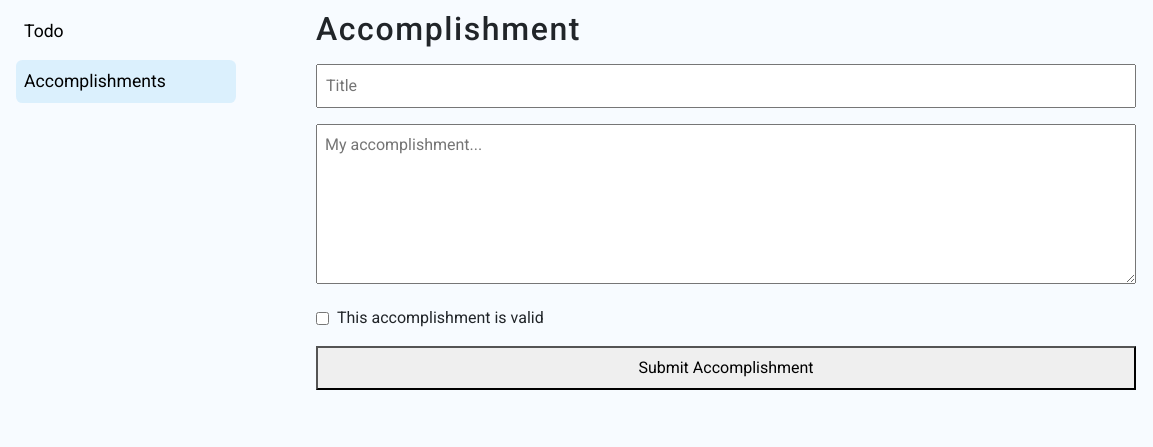
Test: Accomplishment dashboard › should display error if info is missing
Type "This is my accomplishment" into the field with placeholder "Title" at (726, 86), box left=316, top=64, right=1136, bottom=108
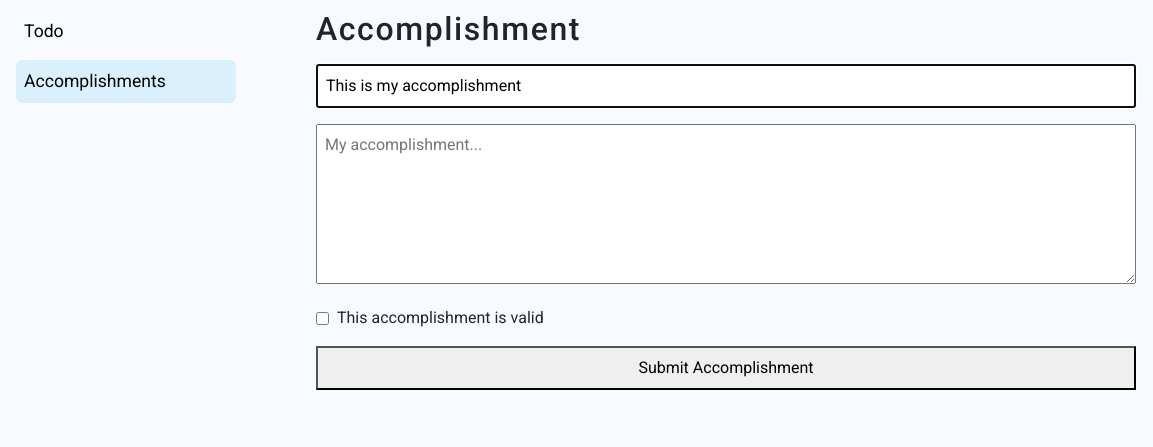
Type "I use Vim! 💪" into the text box with placeholder "My accomplishment..." at (726, 204), box left=316, top=124, right=1136, bottom=284
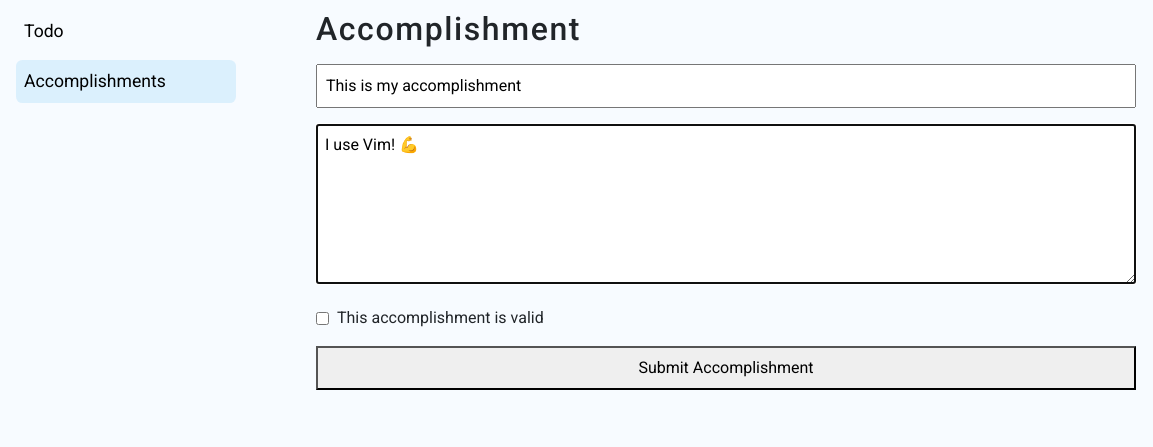
Click the button "Submit Accomplishment" at (726, 368), box left=316, top=346, right=1136, bottom=390
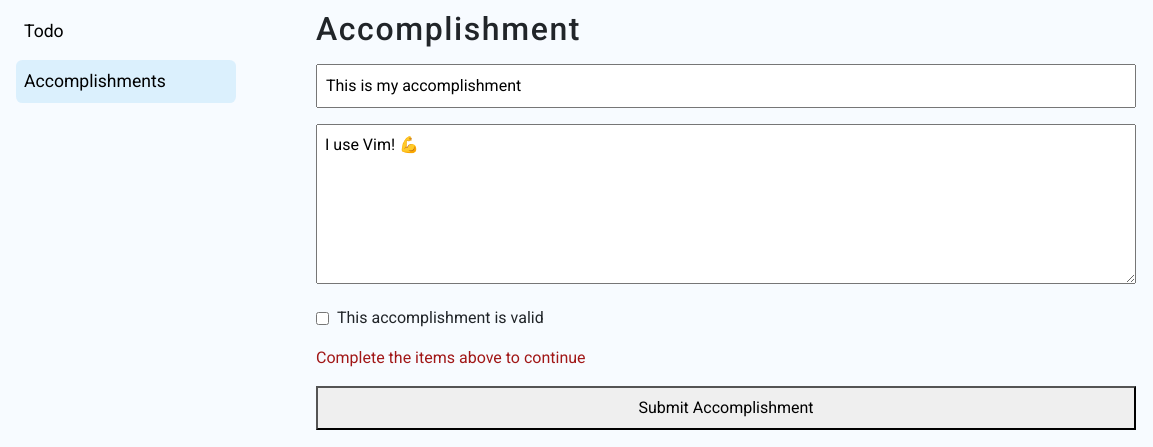
Now the text "Complete the items above to continue" is shown, box left=316, top=348, right=586, bottom=367
